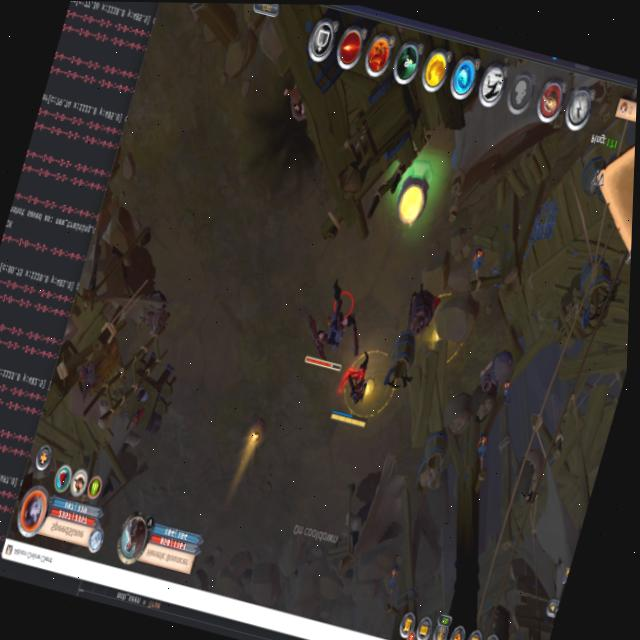fiber: (382, 157, 440, 238)
ore: (297, 276, 370, 378)
red: (325, 342, 390, 433)
